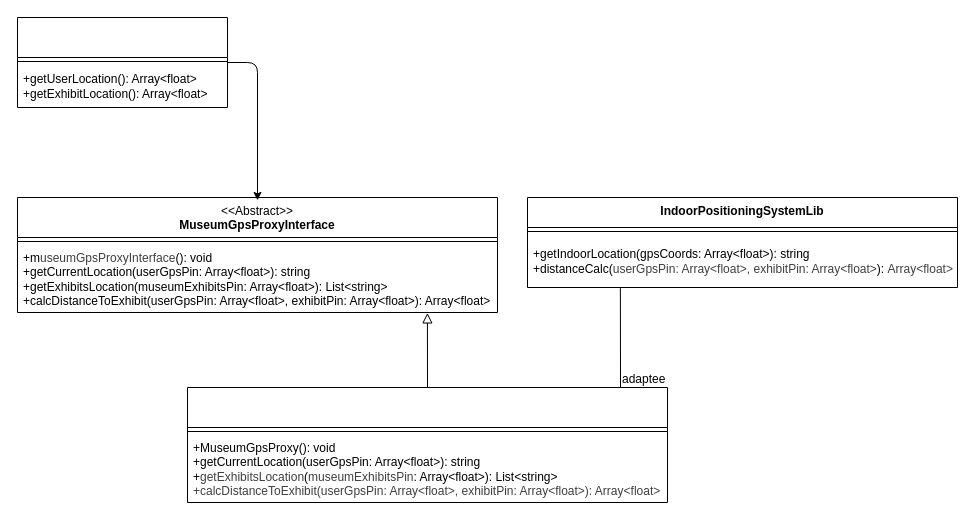
This 975x520 diagram has some shape labels left out. Each missing label, with the box of its shape:
<<Boundary>> MuseumGpsProxy: (186, 386, 668, 502)
<<Controller>> GpsSystemController: (16, 16, 228, 108)
